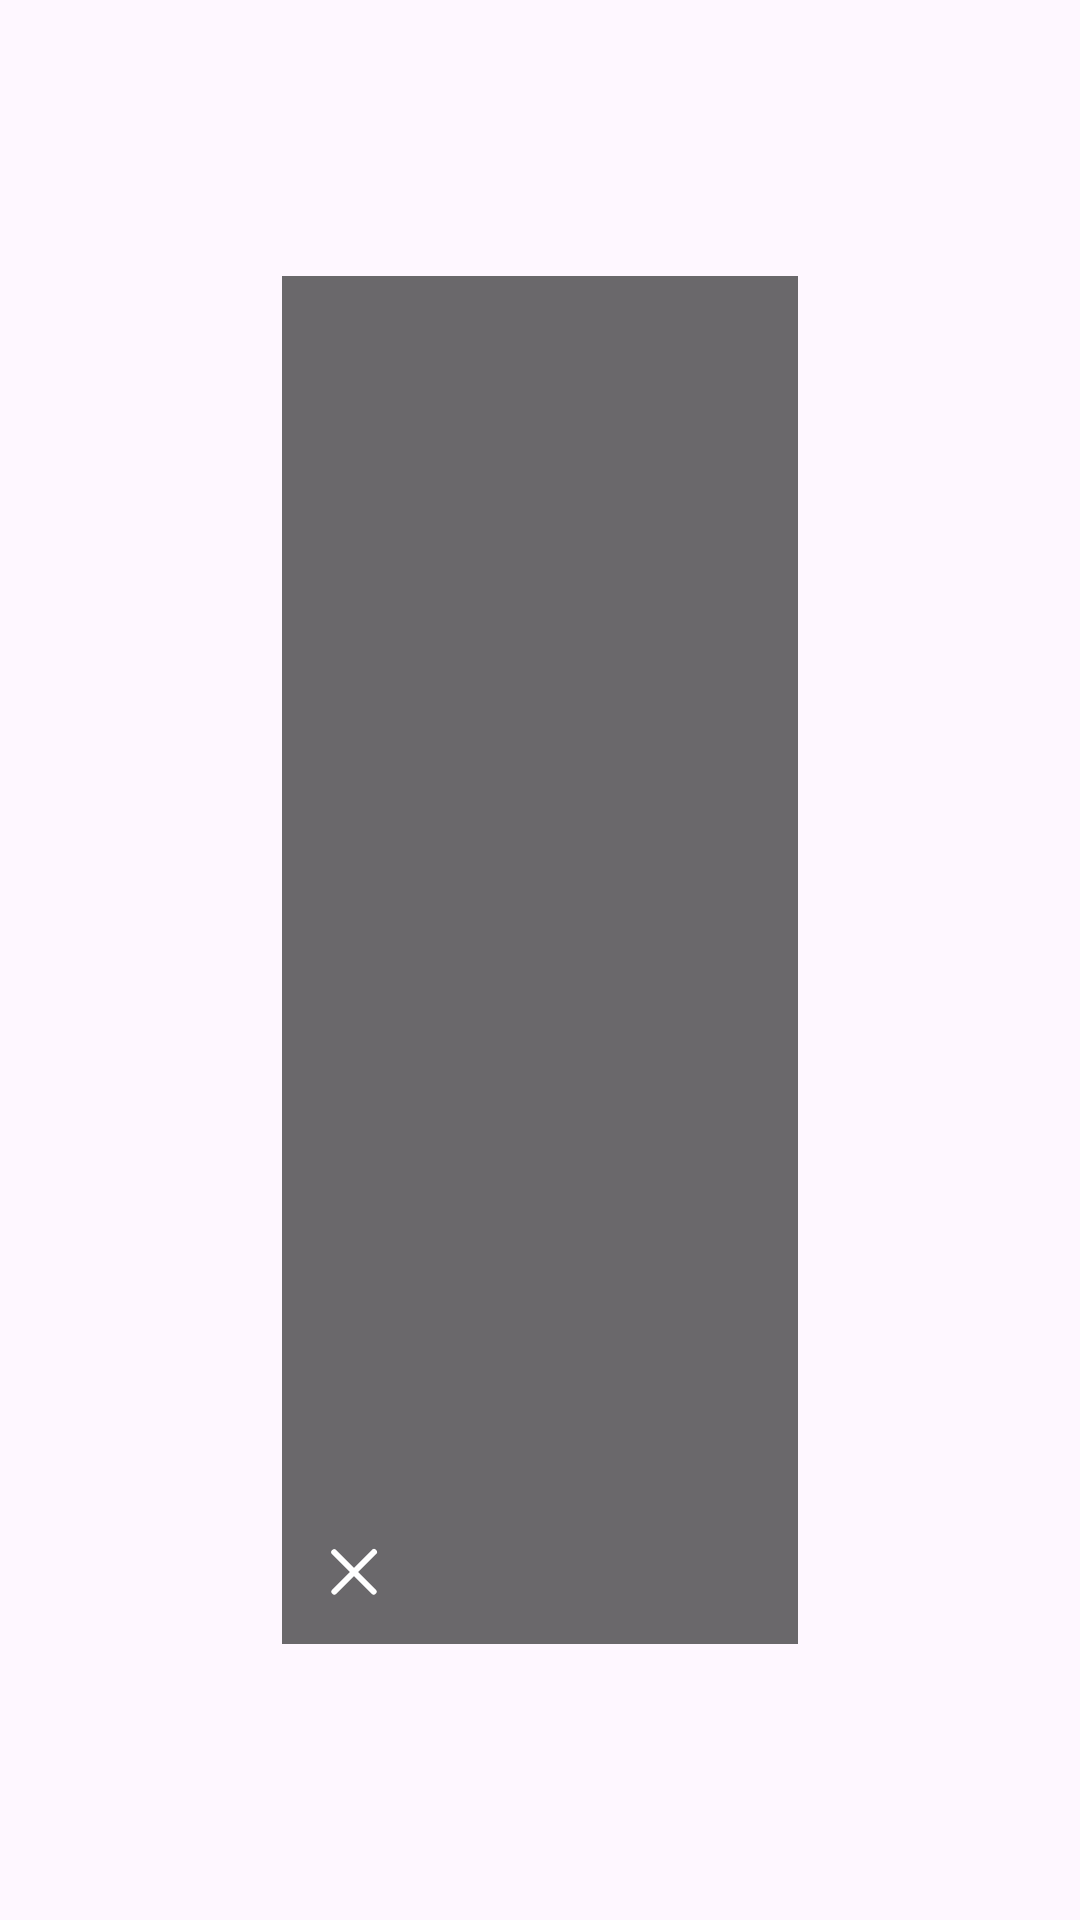

Locate icon controls on the screen. Image size 1080×1920, boxes as (x1, y1, x2, y2).
Close (long press): (331, 1549, 377, 1595)
